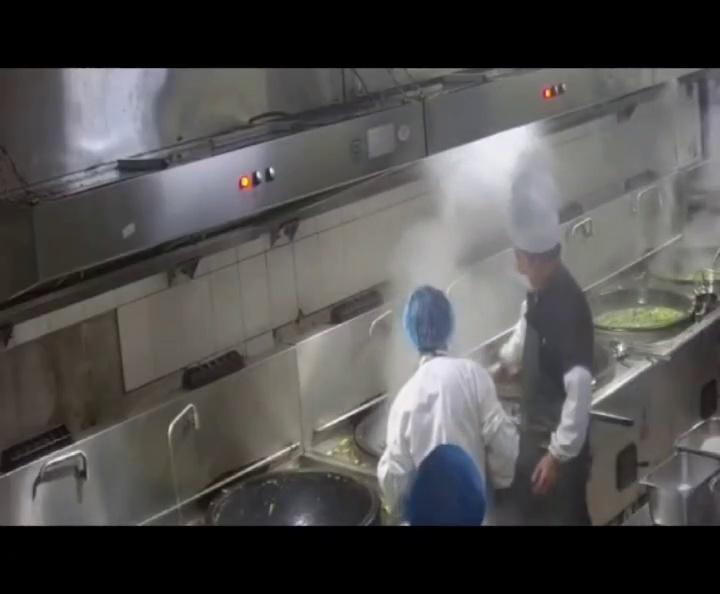gloves: (407, 449, 484, 524), (400, 282, 456, 348)
